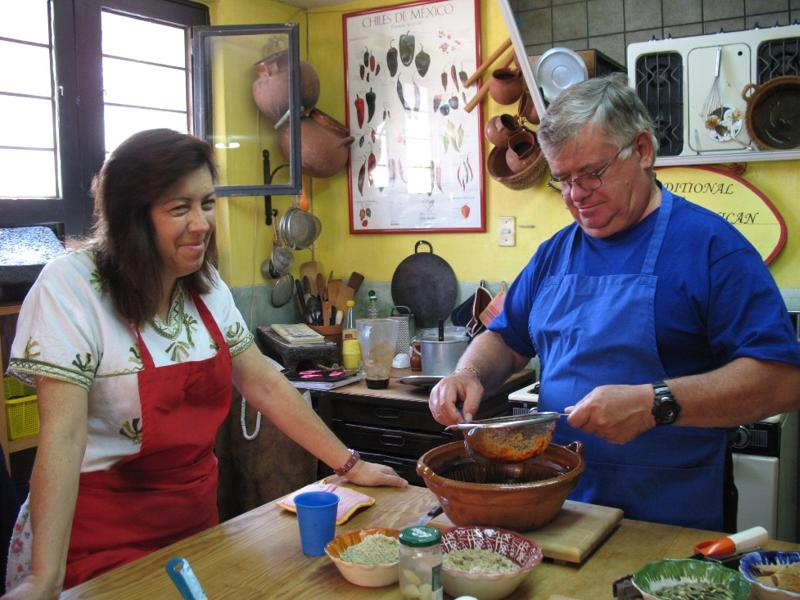person: (427, 75, 800, 530)
